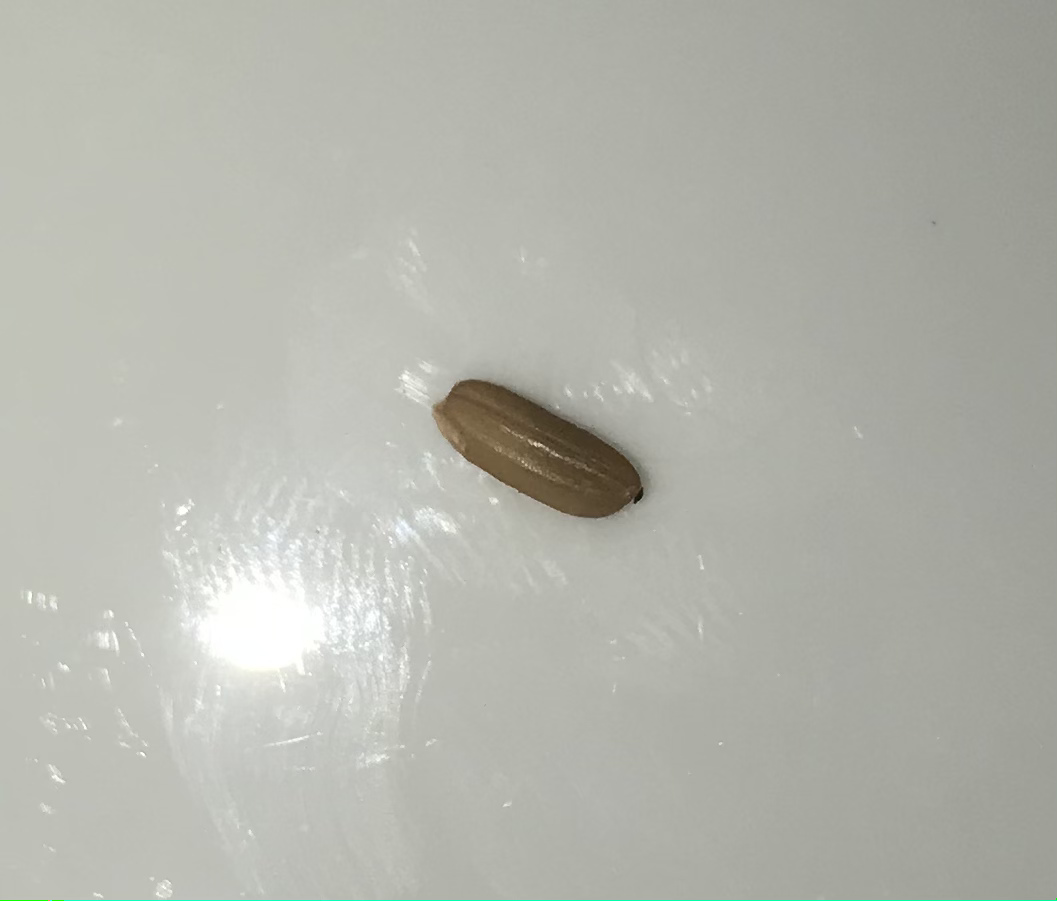Gao Lut Dien Bien: (415, 362, 659, 528)
